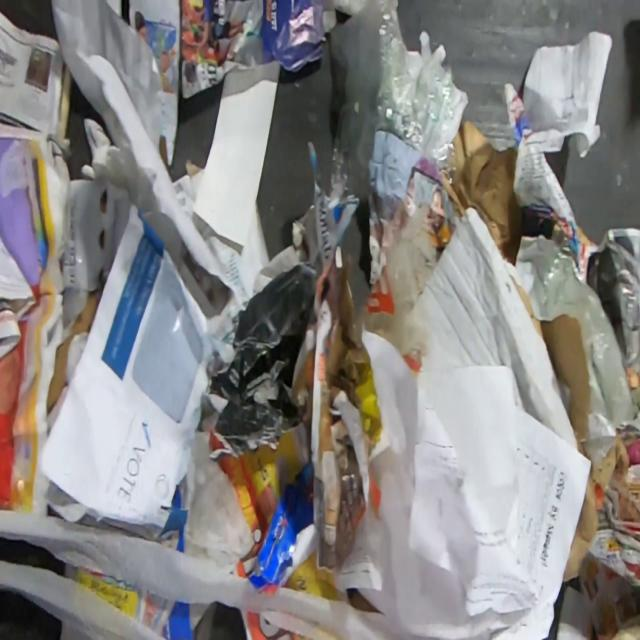cardboard: (511, 276, 592, 441), (441, 117, 525, 265), (561, 427, 637, 582), (62, 179, 129, 329)
soft_plastic: (504, 234, 635, 471), (328, 0, 461, 204)
